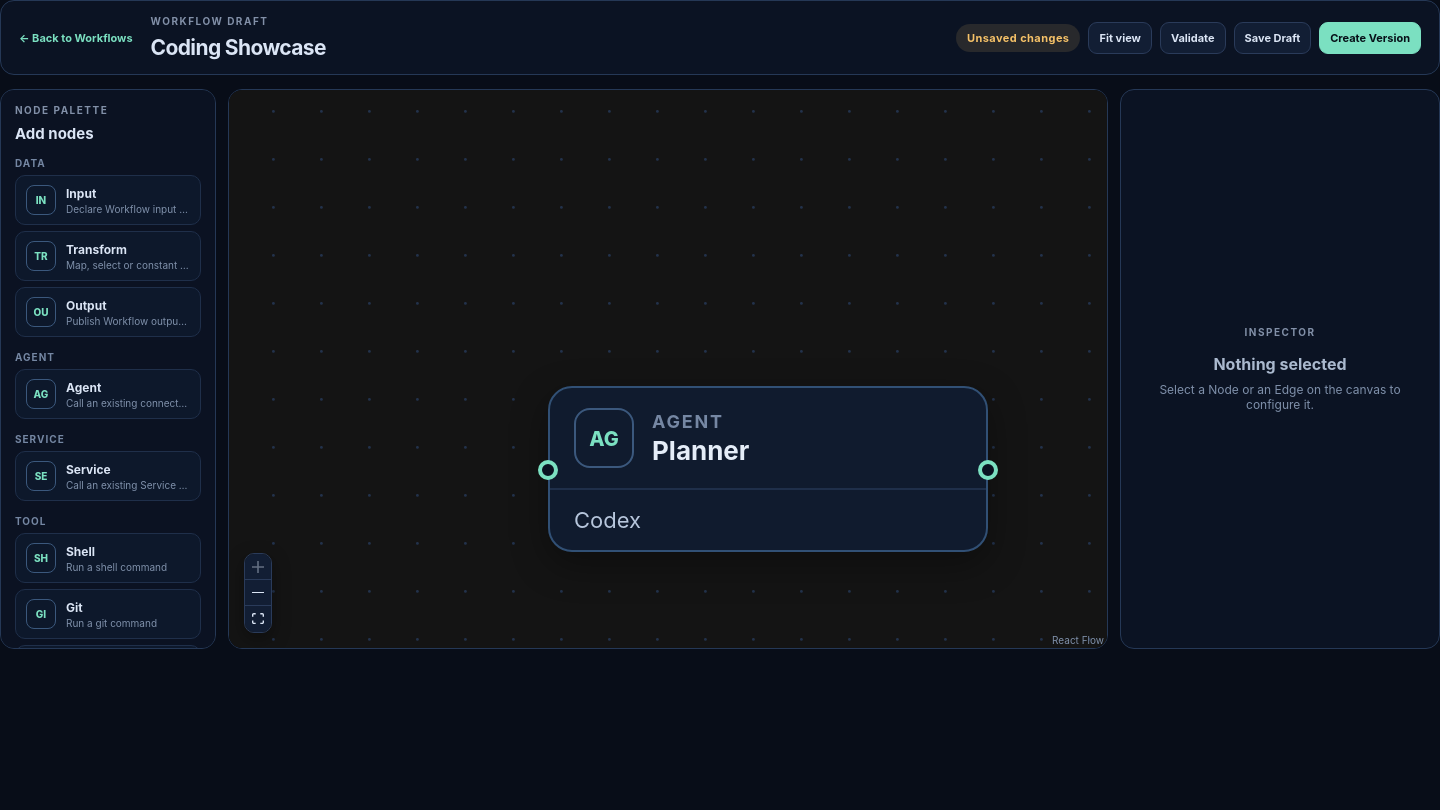
Test case: WorkflowBuilderPage › creates a Version (saving first) through the Version API
Expected: the heading "Coding Showcase" is shown, left=151, top=35, right=326, bottom=60
What coordinates should you click on to do the following:
click the button "Create Version"
I would click on:
 (1370, 38)
Its box is left=1319, top=22, right=1421, bottom=54.
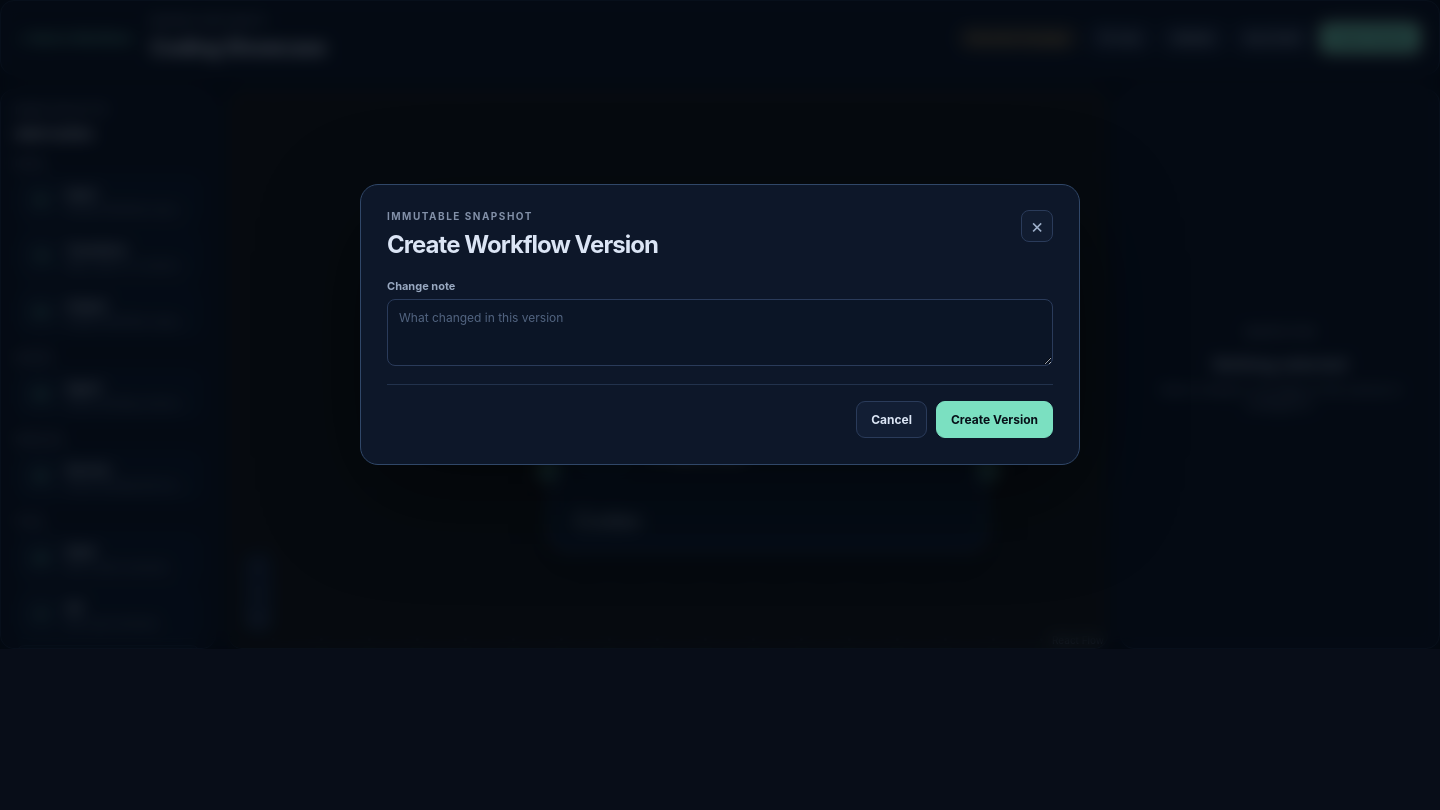
What coordinates should you click on to do the following:
click the button "Create Version"
I would click on:
 (994, 420)
Its box is left=936, top=401, right=1053, bottom=438.
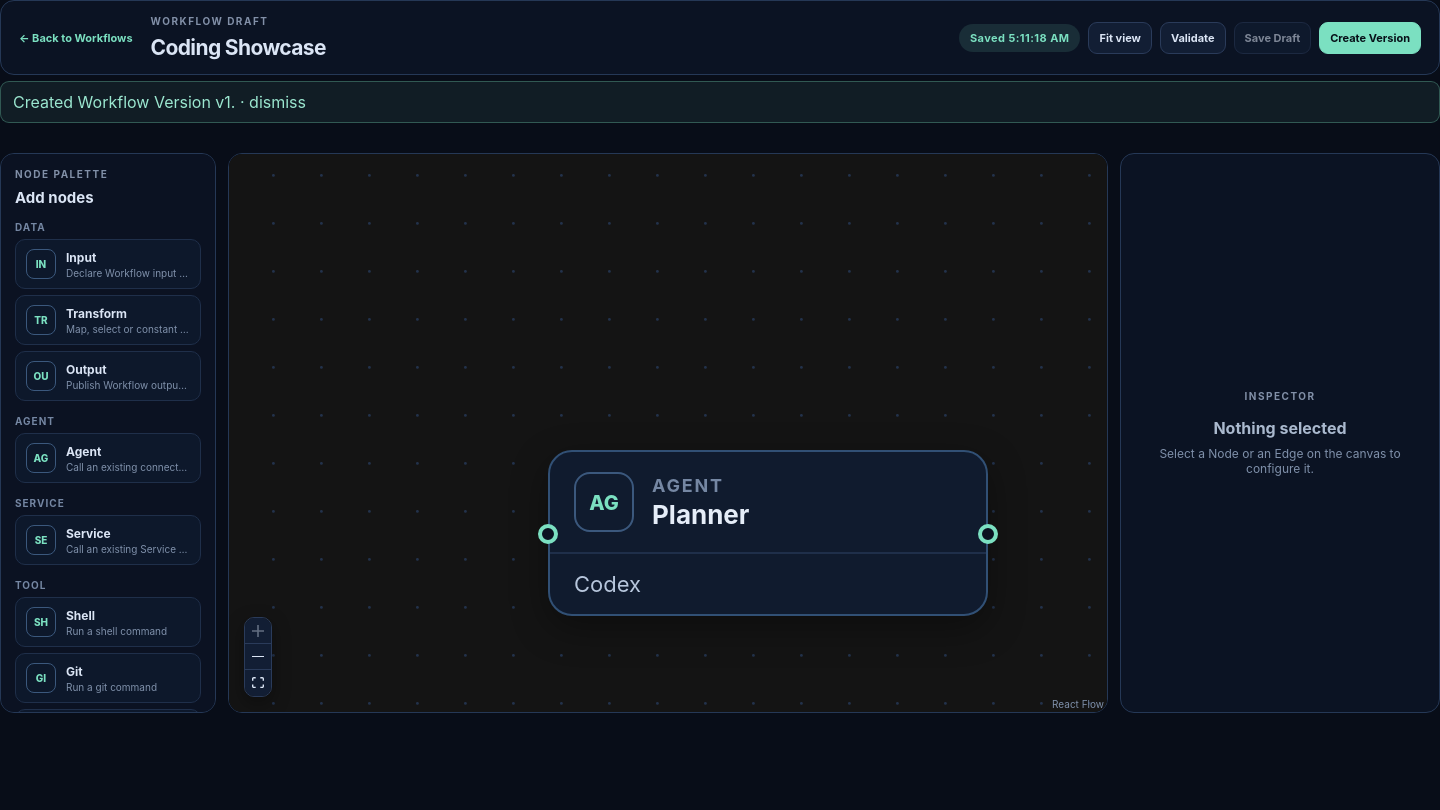
Expected: the button "Created Workflow Version v1. · dismiss" is shown, left=0, top=81, right=1439, bottom=123
